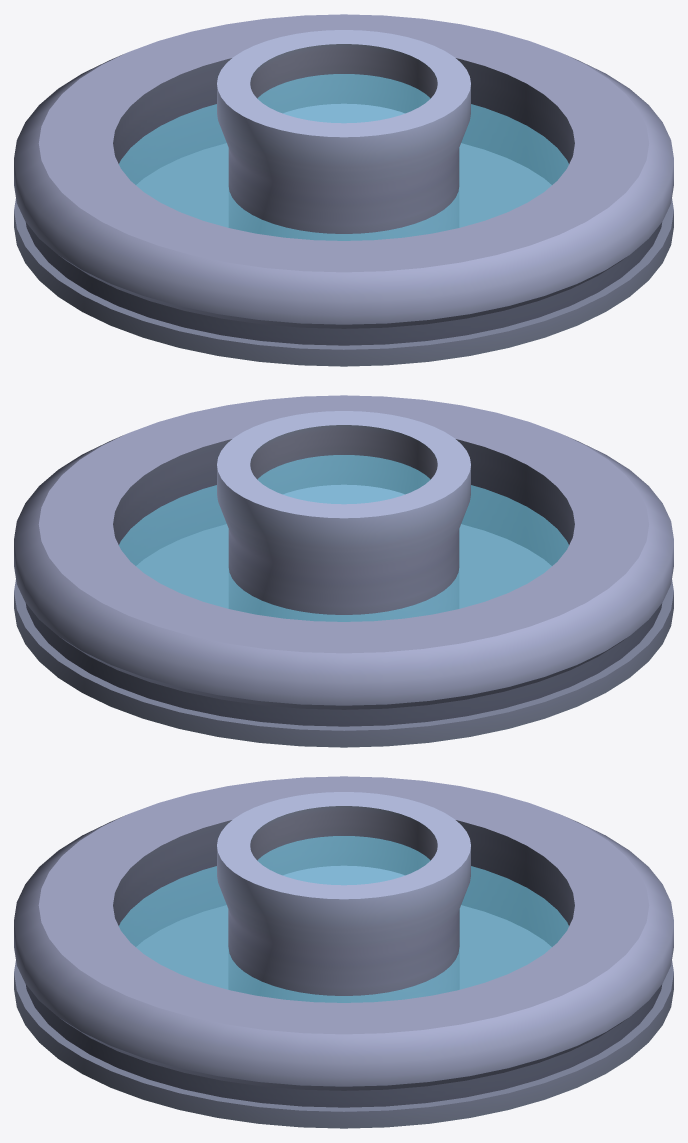
The model's file is k-fantasy-town-fountain-round-detail.glb.
The picture shows the model from 3 angles, top to bottom: view 1: azimuth 30°, elevation 25°; view 2: azimuth 150°, elevation 25°; view 3: azimuth 270°, elevation 25°; orthographic projection.
Visible parts, largest first — view 1: fountain-round-detail, (%ignore); view 2: fountain-round-detail, (%ignore); view 3: fountain-round-detail, (%ignore).
Part boxes in pixels (box(x1,y1,x2,y2)): fountain-round-detail: box(14, 14, 673, 366); (%ignore): box(119, 74, 568, 240); fountain-round-detail: box(14, 395, 673, 747); (%ignore): box(119, 455, 568, 621); fountain-round-detail: box(14, 776, 673, 1128); (%ignore): box(119, 836, 568, 1002).
Size of the model in its own units: 2 by 0.48 by 2.
Materials: 2 (1 with a texture image).
